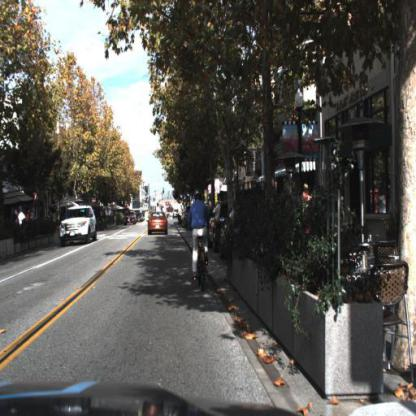biker: (189, 189, 213, 294)
car: (57, 205, 97, 245), (209, 196, 229, 246), (146, 206, 170, 238)
pedestrian: (302, 182, 314, 205), (123, 211, 138, 229), (27, 207, 36, 232), (18, 209, 26, 230)
